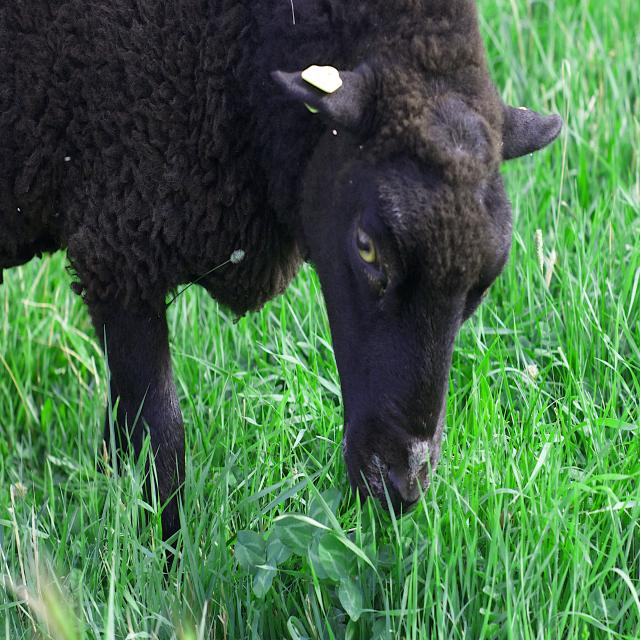cow: (0, 0, 561, 540)
